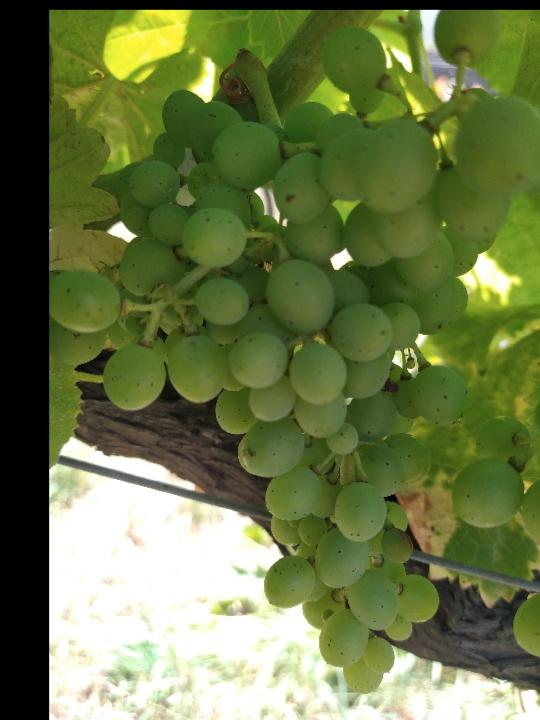grape: (52, 12, 540, 700)
